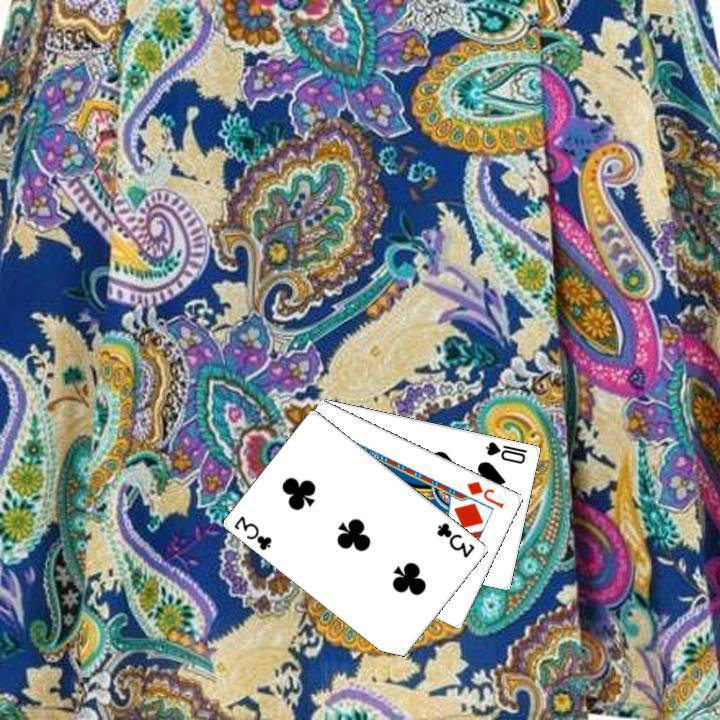10: (481, 437, 529, 465)
3: (433, 518, 477, 560), (230, 511, 274, 553)
J: (463, 476, 506, 510)
